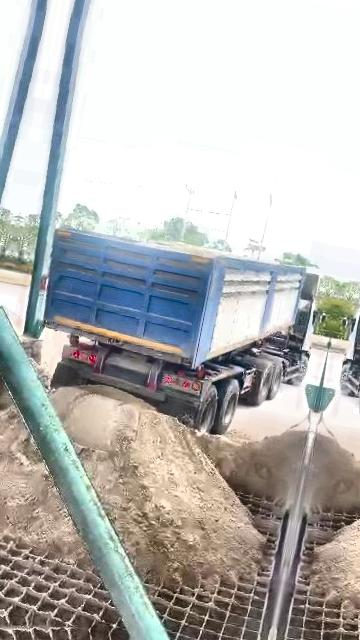sand: (51, 387, 262, 585), (0, 409, 86, 559), (199, 431, 304, 509), (145, 239, 248, 261), (0, 362, 12, 417)
